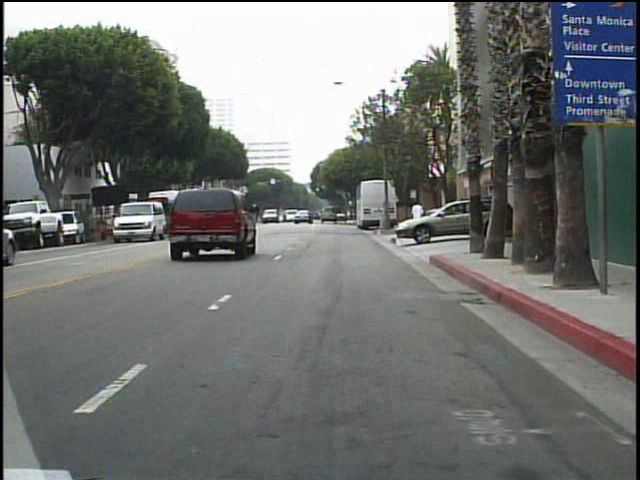person: (410, 196, 429, 237)
